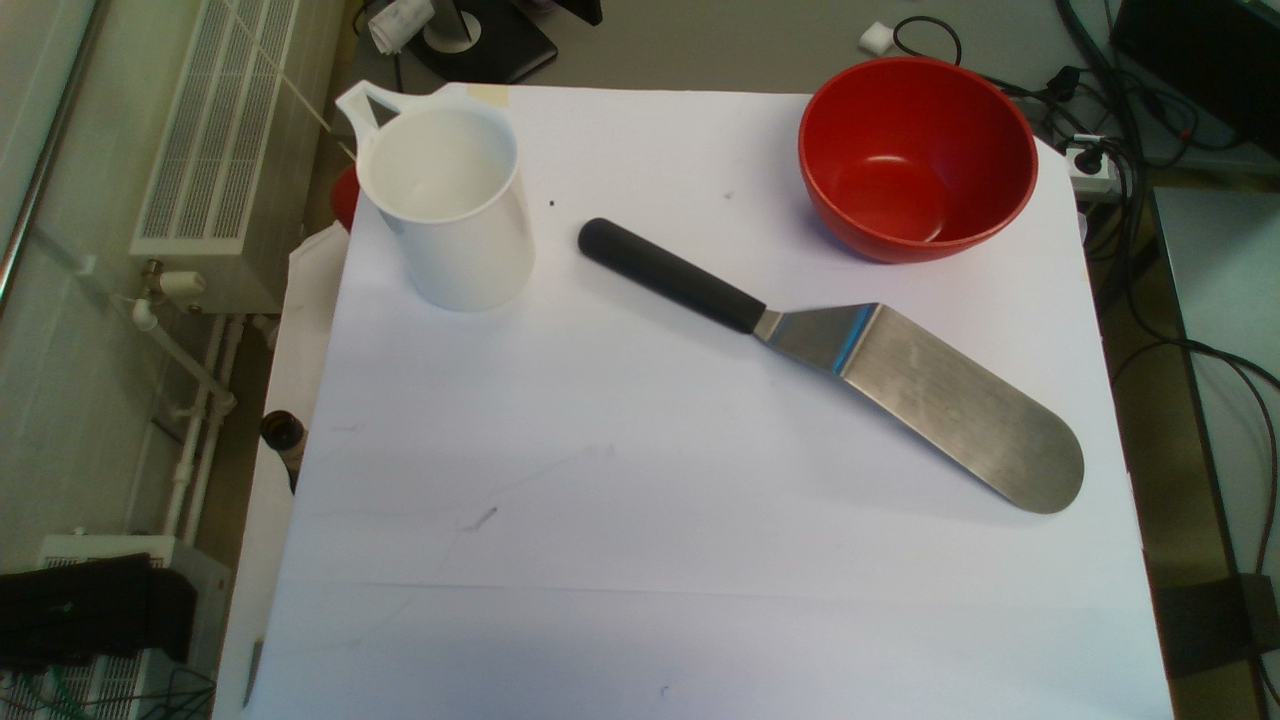bowl: (794, 56, 1038, 261)
cup: (337, 80, 537, 310)
spatula: (578, 213, 1087, 518)
